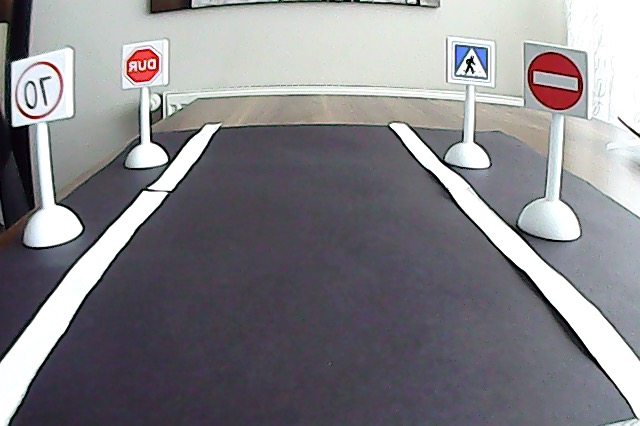do not enter: (52, 48, 114, 110)
pedestrian crossing: (149, 43, 187, 81)
speed limit 70: (563, 60, 623, 120)
stop sign: (477, 42, 520, 85)
